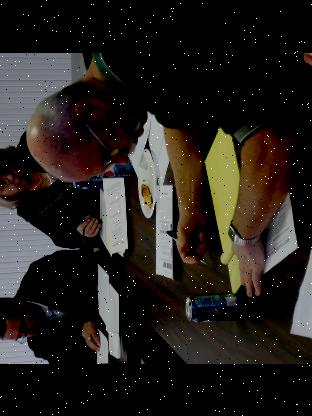Can: (180, 284, 244, 326)
